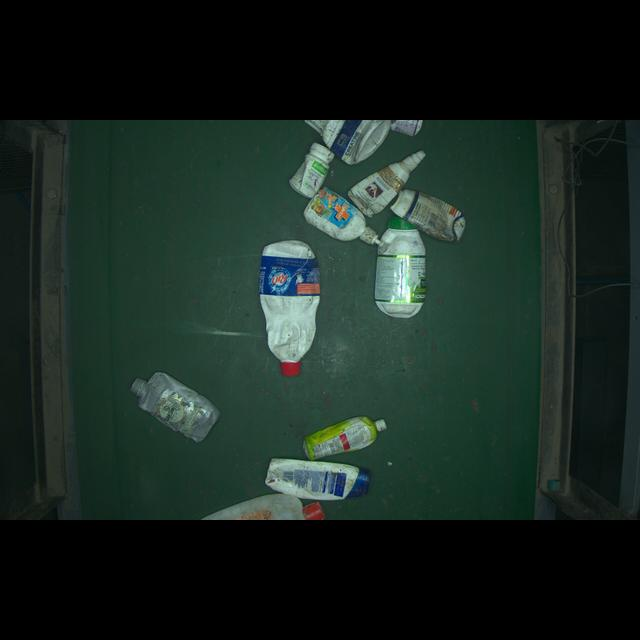mix PET: (253, 239, 329, 377), (130, 363, 228, 443), (264, 449, 377, 502), (373, 220, 428, 318), (299, 409, 392, 462)
